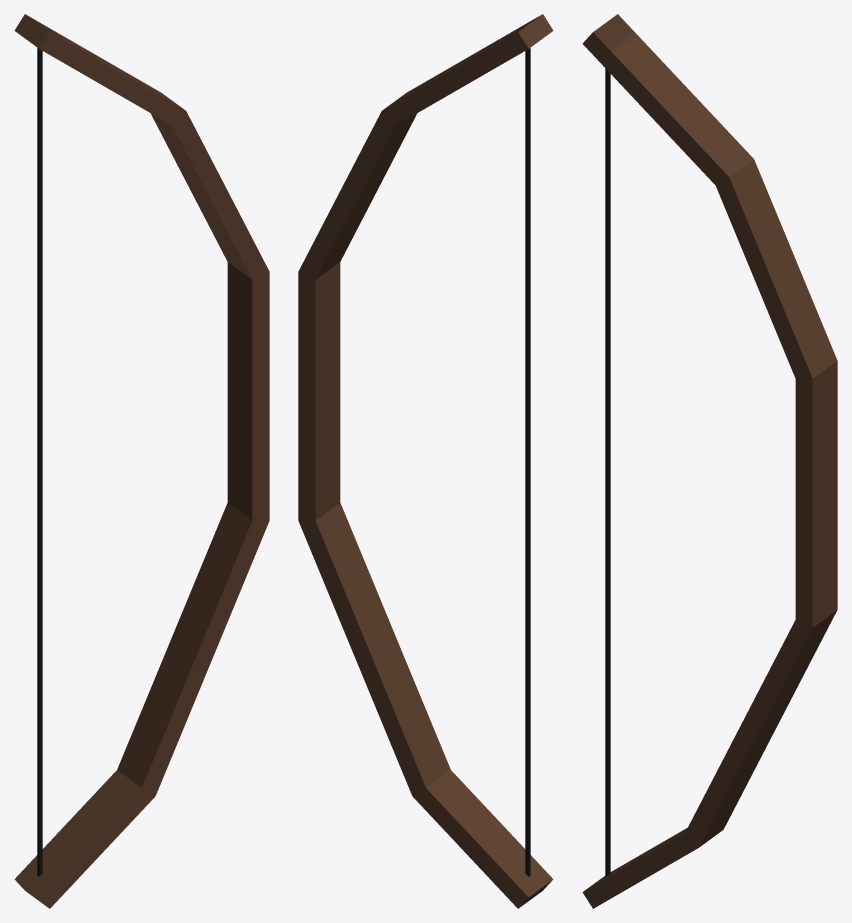
Rendered from Bow.glb.
The picture shows the model from 3 angles, left to right: view 1: azimuth 30°, elevation 25°; view 2: azimuth 150°, elevation 25°; view 3: azimuth 330°, elevation 25°; orthographic projection.
Parts seen in each view (by area): view 1: Bow; view 2: Bow; view 3: Bow.
Part boxes in pixels (x1,y1,x2,y2): Bow: (14, 14, 269, 908); Bow: (298, 14, 553, 908); Bow: (582, 14, 837, 908).
Size of the model in its own units: 0.3217 by 1.17 by 0.06.
Materials: 1 (1 with a texture image).
